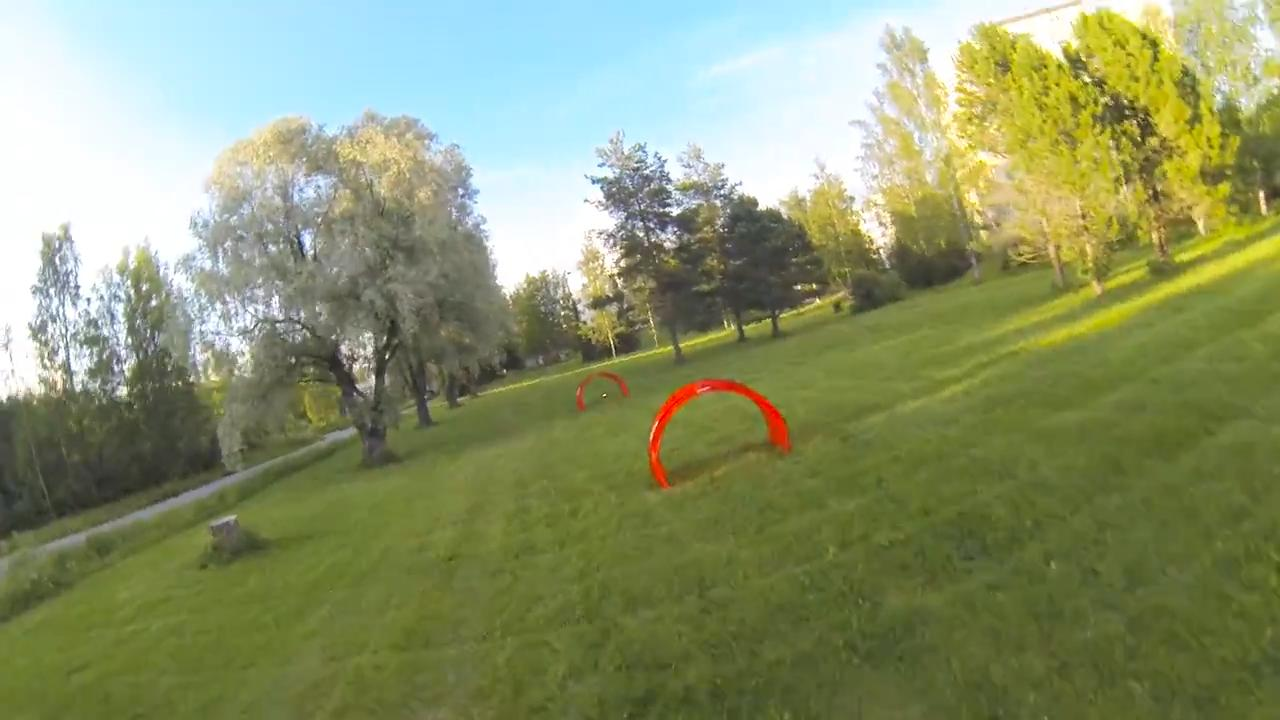gate: (645, 372, 791, 490)
